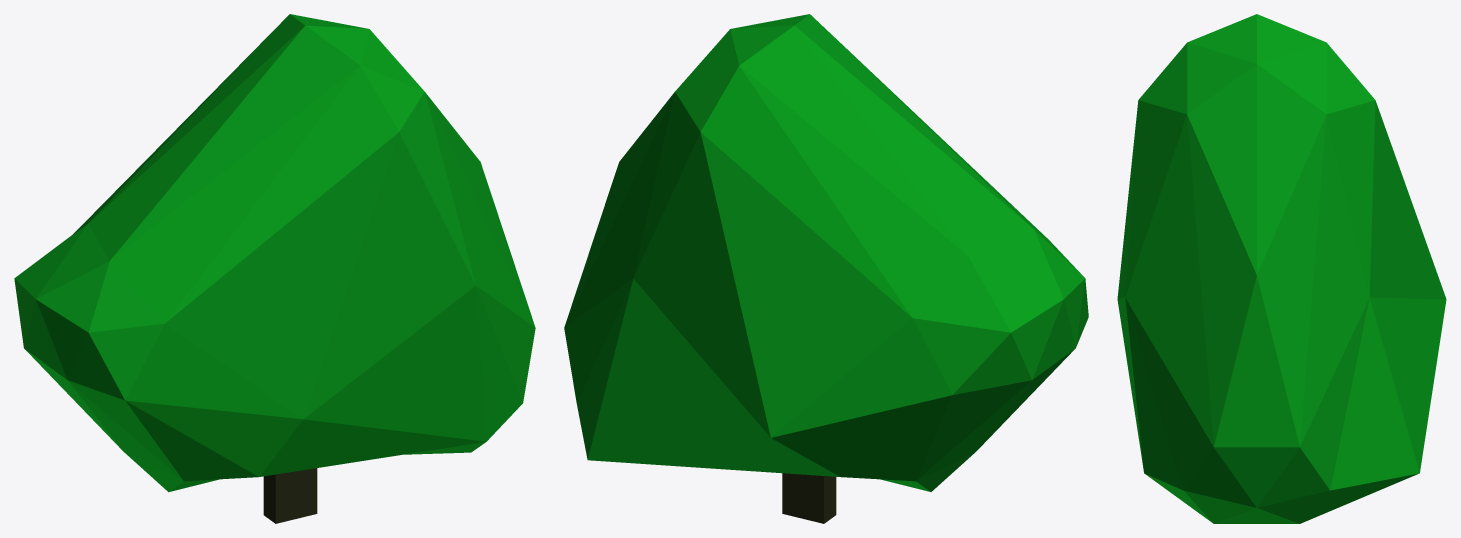
File: Tree.dae
3 renders of one model, left to right at view 1: azimuth 30°, elevation 25°; view 2: azimuth 150°, elevation 25°; view 3: azimuth 270°, elevation 25°, orthographic.
Visible parts, largest first — view 1: Icosphere, Cube; view 2: Icosphere, Cube; view 3: Icosphere.
Part boxes in pixels (x1,y1,x2,y2): Icosphere: (14,14,535,492); Cube: (263,468,317,523); Icosphere: (564,14,1088,491); Cube: (782,473,836,523); Icosphere: (1117,14,1446,523).
Bounding box in the file's own units: 5.79 × 3.5 × 5.62.
